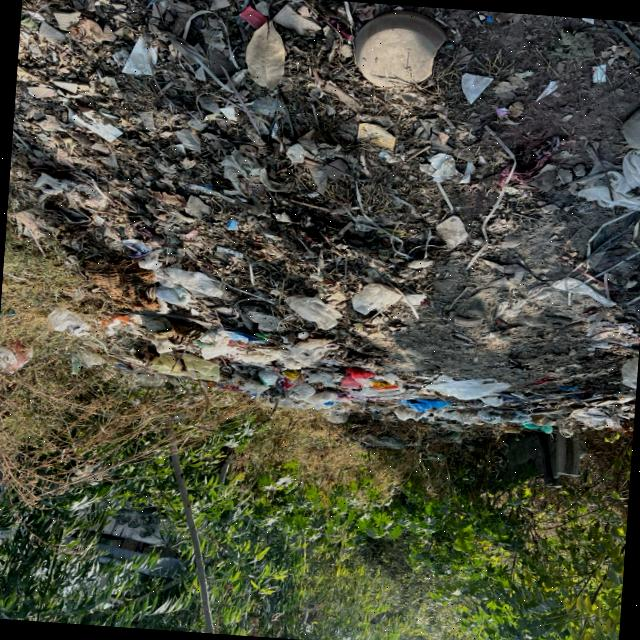garbage: (55, 0, 549, 439)
